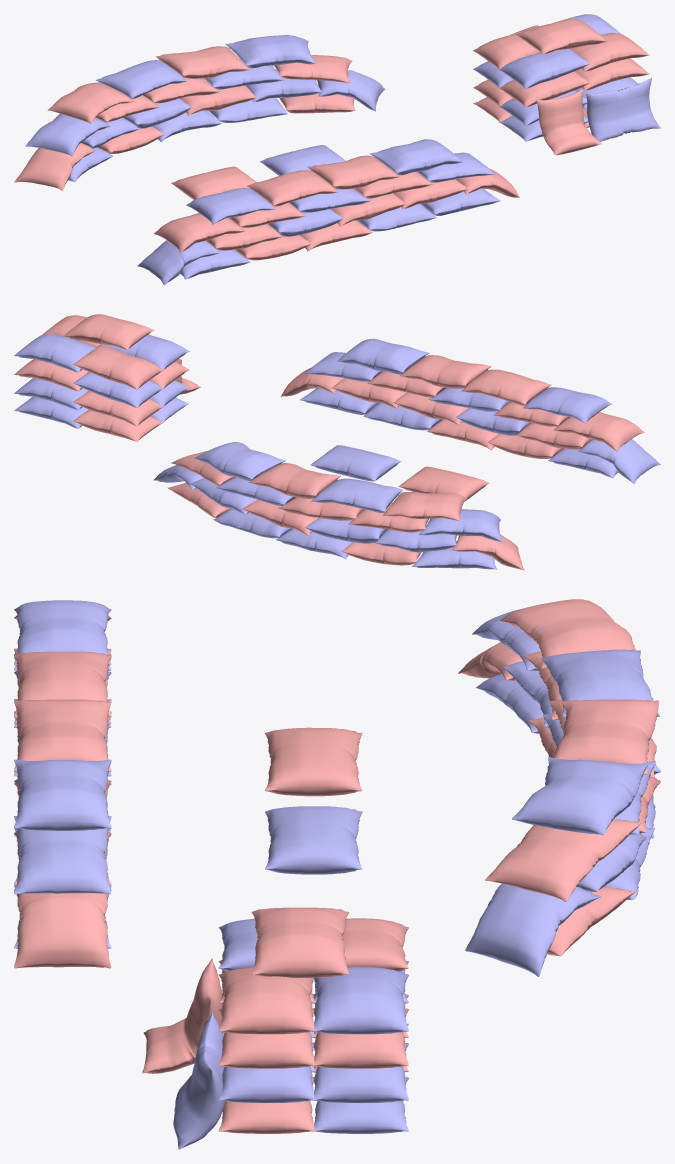
The model's file is bags.fbx.
The picture shows the model from 3 angles, top to bottom: view 1: azimuth 30°, elevation 25°; view 2: azimuth 150°, elevation 25°; view 3: azimuth 270°, elevation 25°; orthographic projection. The views are drawn at different scales.
Parts seen in each view (by area): view 1: set3, polySurface18, polySurface17, polySurface2, bag22, polySurface19, bag20, bag19, bag21, bag14, bag11, bag_low4 (+26 smaller); view 2: set3, polySurface3, bag_low5, bag22, polySurface19, bag20, bag19, bag21, bag14, bag_low4, polySurface4, bag11 (+25 smaller); view 3: set3, bag6, bag22, polySurface19, bag_low5, bag_low4, bag12, polySurface4, bag19, polySurface5, bag21, bag20 (+10 smaller).
Part boxes in pixels (x1,y1,x2,y2): set3: [14, 35, 385, 190]; polySurface18: [586, 78, 660, 141]; polySurface17: [536, 89, 601, 155]; polySurface2: [498, 49, 590, 88]; bag22: [370, 139, 462, 175]; polySurface19: [516, 18, 607, 54]; bag20: [247, 170, 337, 206]; bag19: [307, 155, 400, 189]; bag21: [186, 188, 275, 224]; bag14: [154, 213, 245, 253]; bag11: [137, 240, 220, 285]; bag_low4: [171, 166, 256, 199]; set3: [153, 442, 524, 570]; polySurface3: [73, 345, 163, 389]; bag_low5: [310, 445, 401, 481]; bag22: [337, 338, 429, 374]; polySurface19: [63, 314, 154, 349]; bag20: [461, 369, 551, 405]; bag19: [400, 355, 491, 388]; bag21: [523, 387, 612, 423]; bag14: [553, 412, 644, 451]; bag_low4: [398, 466, 489, 500]; polySurface4: [14, 334, 95, 372]; bag11: [578, 439, 660, 483]; set3: [458, 599, 660, 976]; bag6: [14, 889, 111, 968]; bag22: [14, 759, 111, 830]; polySurface19: [251, 907, 349, 977]; bag_low5: [265, 806, 362, 874]; bag_low4: [265, 727, 362, 796]; bag12: [14, 816, 111, 894]; polySurface4: [311, 967, 408, 1034]; bag19: [14, 699, 111, 771]; polySurface5: [218, 967, 315, 1034]; bag21: [14, 600, 111, 665]; bag20: [14, 651, 111, 716].
Bounding box in the file's own units: 38.67 × 6.34 × 21.78.
